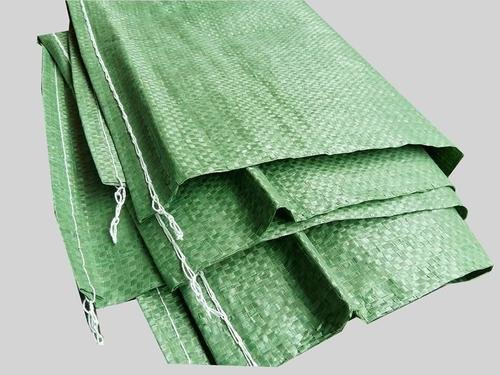Parcel: (38, 0, 492, 365)
